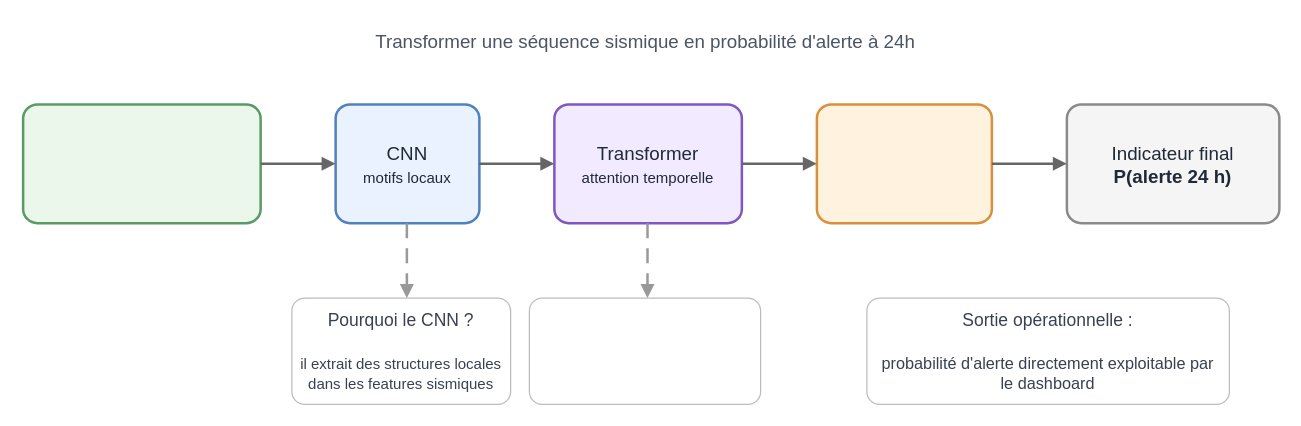
The diagram is 1301 pixels wide and 426 high, and some of its shapes have lost their labels. Each missing label, with the centre of its shape:
"Classification 6 classes niveaux d’alerte" goes at point (903, 163).
"Pourquoi le Transformer ? il pondère les moments importants de la séquence" goes at point (644, 350).
"Séquences temporelles features sismiques" goes at point (141, 163).
